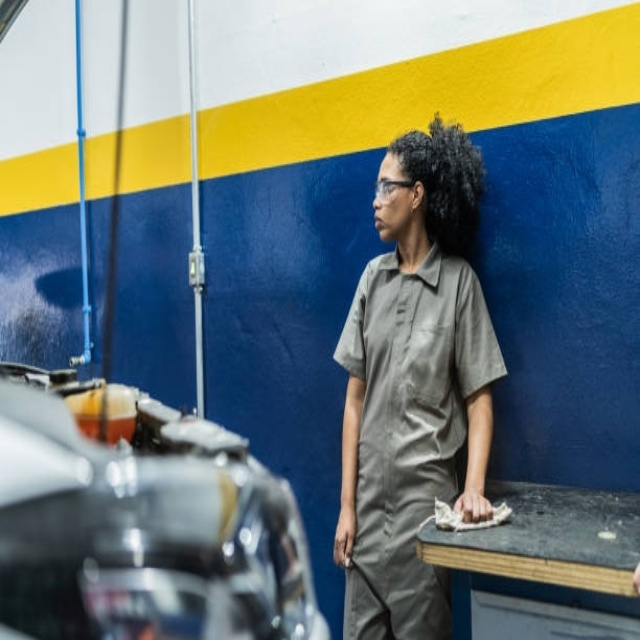Gafas: (375, 178, 416, 198)
Sin_guantes: (330, 496, 357, 571), (453, 489, 493, 523)
Sin_mascara: (371, 210, 388, 239)
